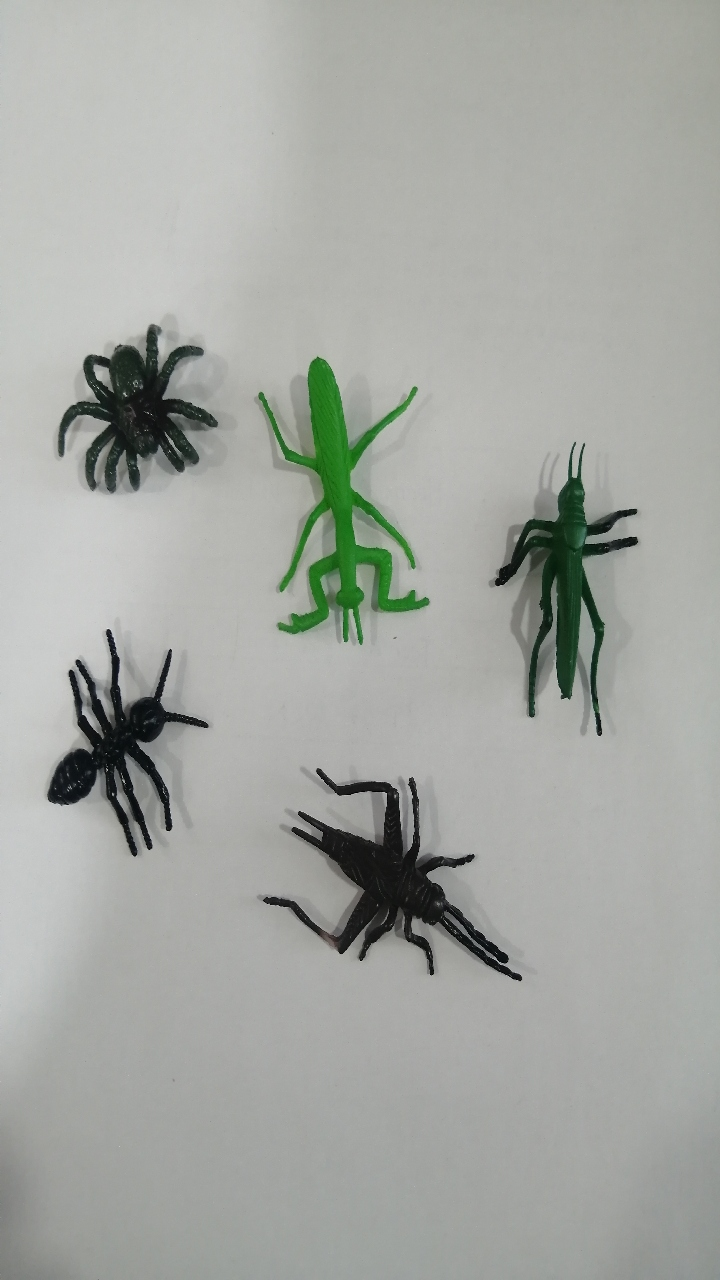intruso: (232, 742, 546, 1032), (231, 323, 455, 675), (460, 432, 666, 763), (21, 597, 224, 891), (29, 283, 231, 545)
